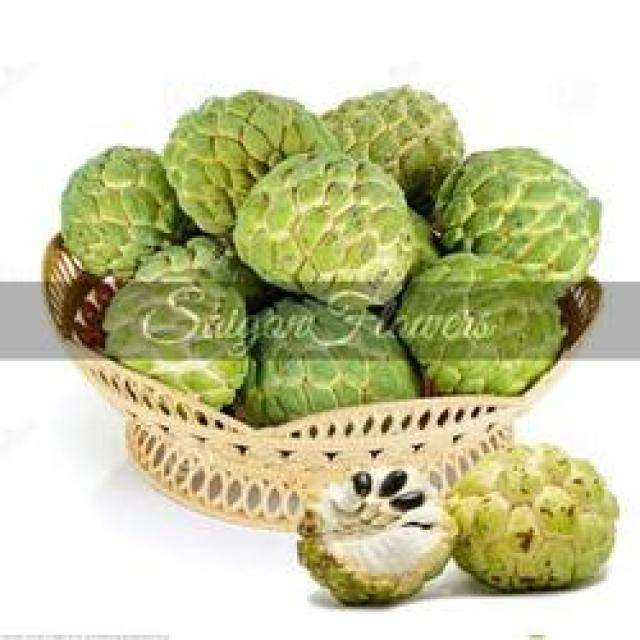apple: (222, 156, 428, 307), (440, 441, 630, 596), (438, 133, 612, 289), (56, 141, 182, 279)
